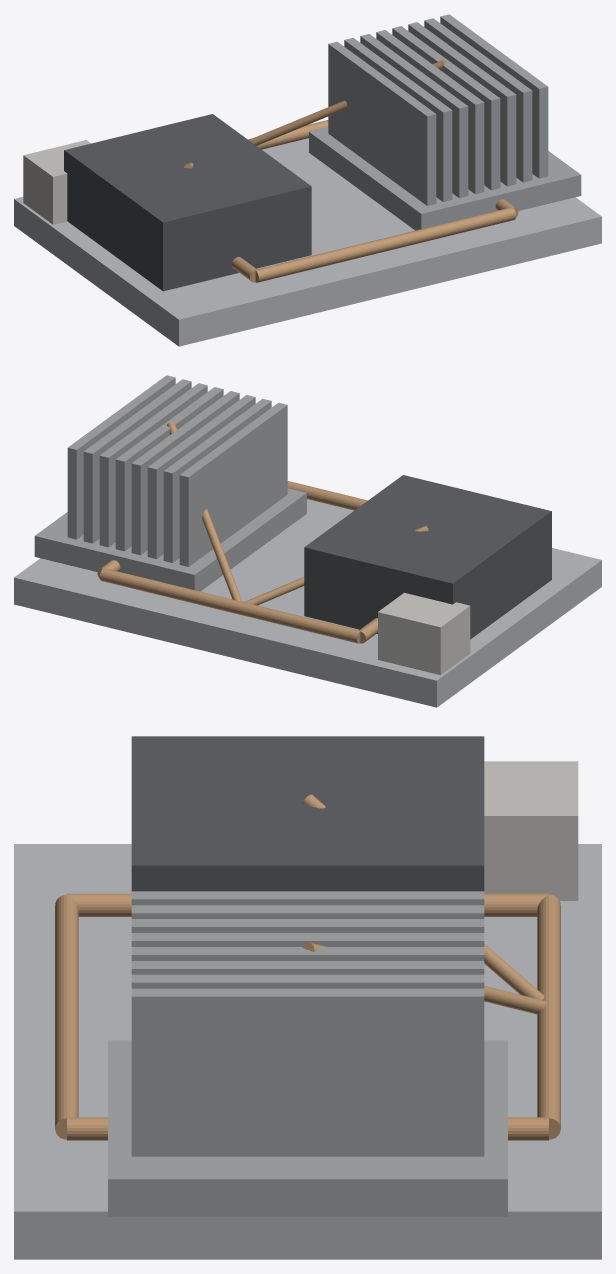
3 renders of one model, top to bottom at view 1: azimuth 30°, elevation 25°; view 2: azimuth 150°, elevation 25°; view 3: azimuth 270°, elevation 25°, orthographic. The views are drawn at different scales.
Parts seen in each view (by area): view 1: heat_sink, assembly_base, heat_source, coolant_loop, module_01, link_coolant_loop__heat_sink; view 2: heat_sink, assembly_base, heat_source, module_01, coolant_loop, link_coolant_loop__heat_sink, link_coolant_loop__heat_source; view 3: heat_sink, assembly_base, heat_source, coolant_loop, module_01, link_coolant_loop__heat_source, link_coolant_loop__heat_sink.
Boxes of the visible parts, x1,y1,x2,y2 form: heat_sink: (309,14,581,230); assembly_base: (14,138,601,346); heat_source: (64,114,311,291); coolant_loop: (231,120,518,282); module_01: (23,140,90,224); link_coolant_loop__heat_sink: (249,59,445,145); heat_sink: (34,375,306,591); assembly_base: (14,499,601,707); heat_source: (304,475,551,639); module_01: (378,592,470,675); coolant_loop: (97,481,377,643); link_coolant_loop__heat_sink: (167,422,242,601); link_coolant_loop__heat_source: (244,525,428,605); heat_sink: (108,891,507,1216); assembly_base: (14,844,601,1259); heat_source: (131,736,484,891); coolant_loop: (55,893,560,1140); module_01: (484,761,578,900); link_coolant_loop__heat_source: (302,794,544,999); link_coolant_loop__heat_sink: (302,942,546,1014).
Size of the model in its own units: 7.5 by 2.36 by 5.
